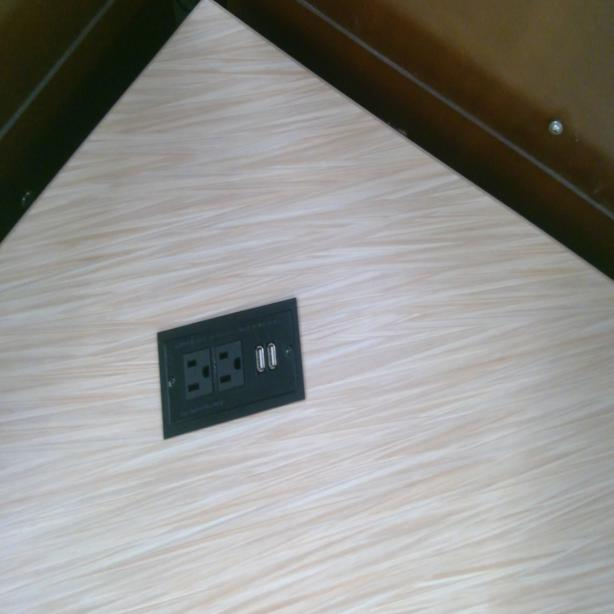typeb: (183, 345, 211, 398), (214, 344, 244, 391)
